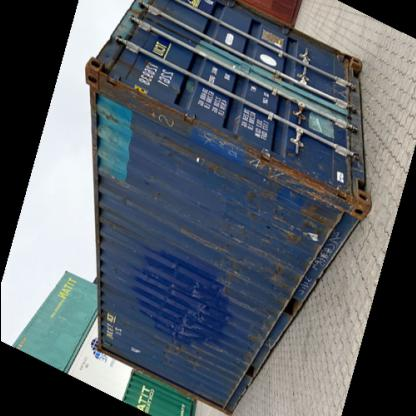Damage: (240, 146, 343, 204), (172, 225, 232, 257), (261, 219, 329, 247), (165, 296, 195, 342), (265, 258, 302, 288), (141, 103, 176, 134), (246, 307, 270, 350), (115, 188, 135, 222), (95, 104, 117, 126)
